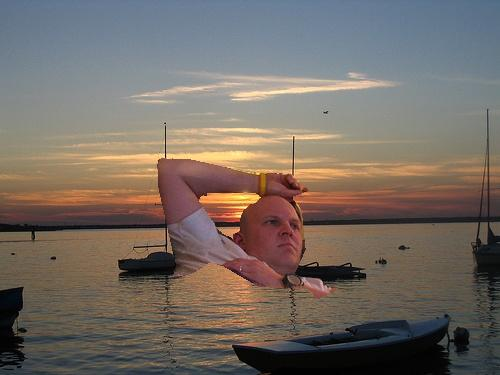tampered: (158, 159, 338, 299)
